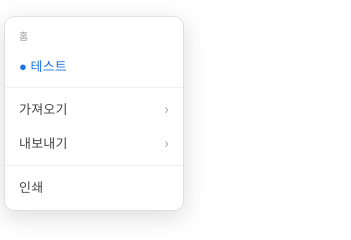
Test: 햄버거 메뉴 가져오기 서브창 › 가져오기를 누르면 서브창에 세 종류가 뜬다
Click the text "가져오기".
click(43, 109)  # box [19,99,169,118]
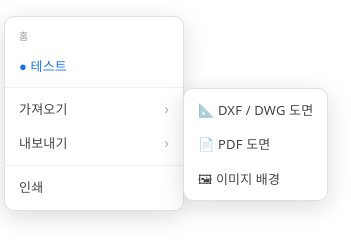
Check: the text "📐 DXF / DWG 도면" is shown, box [198,101,313,119]
Check: the text "📄 PDF 도면" is shown, box [198,135,270,153]
Check: the text "🖼 이미지 배경" is shown, box [198,170,280,188]
